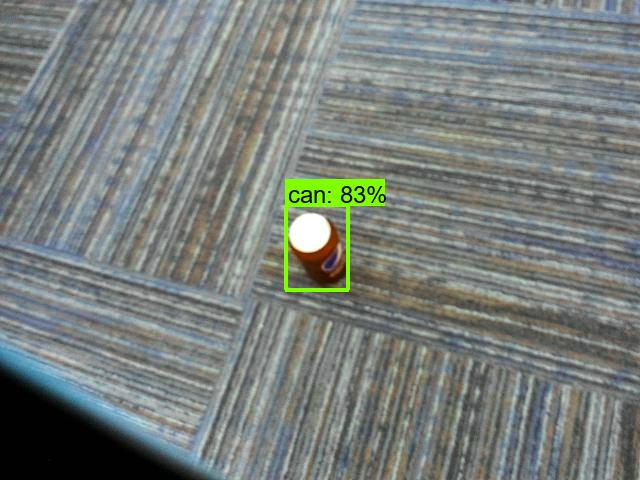can: (276, 205, 354, 292)
